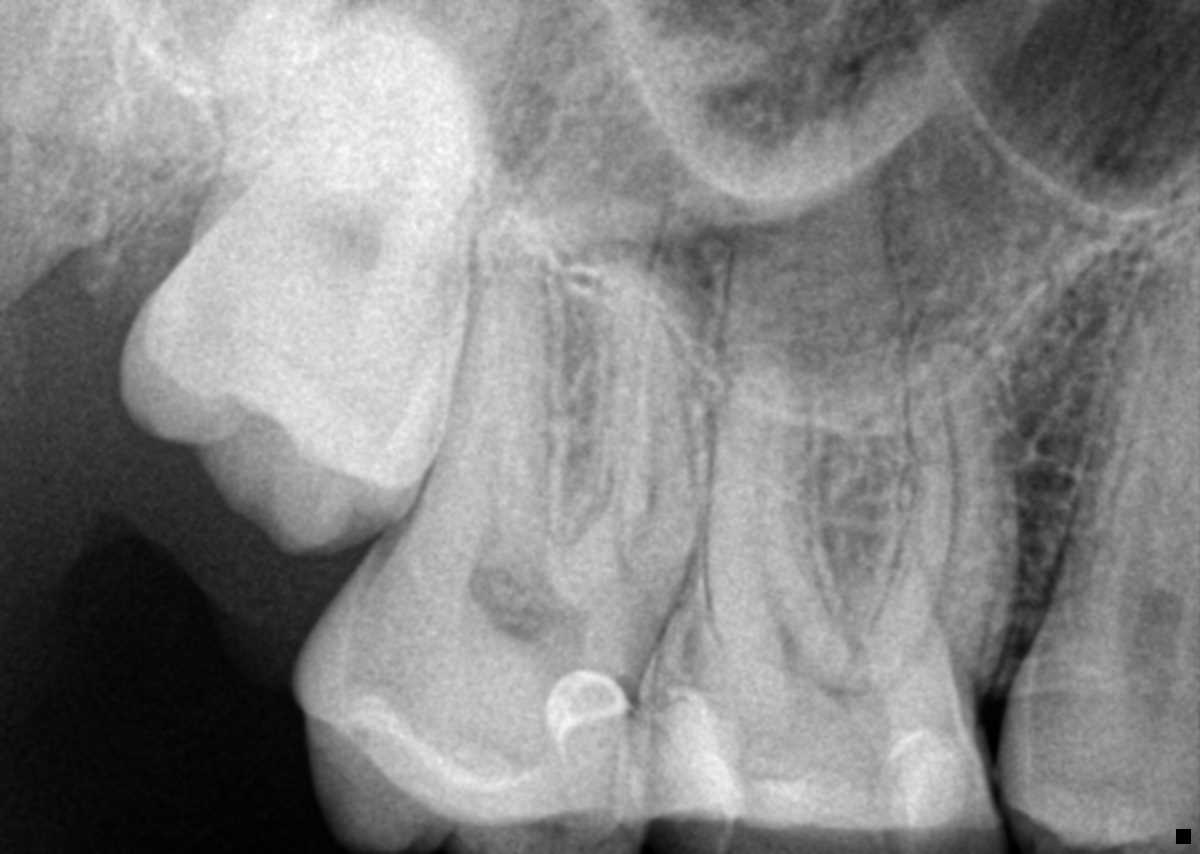Distal Canal: (758, 376, 810, 647), (486, 399, 511, 549)
Distal Root: (703, 361, 841, 646), (419, 266, 553, 554)
Main Root: (1039, 243, 1200, 629)
Mesial Canal: (912, 364, 965, 647), (600, 414, 659, 597)
Mesial Root: (870, 336, 1022, 668), (568, 302, 701, 623)
Palatal Canal: (792, 150, 826, 371)
Palatal Root: (679, 111, 947, 654), (417, 83, 666, 587)
decay: (644, 604, 710, 704), (614, 612, 665, 698)
